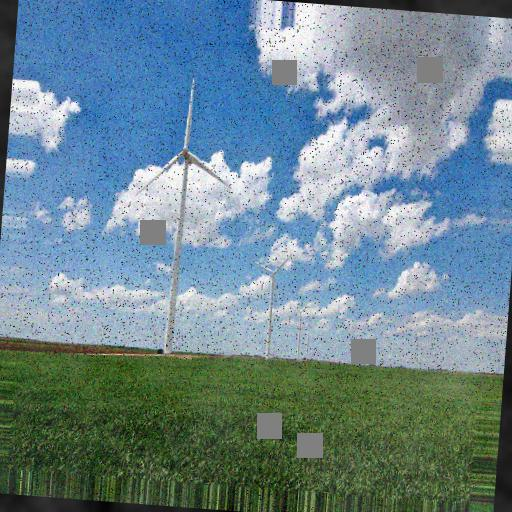wind turbine: (136, 76, 232, 354), (249, 250, 294, 365)
